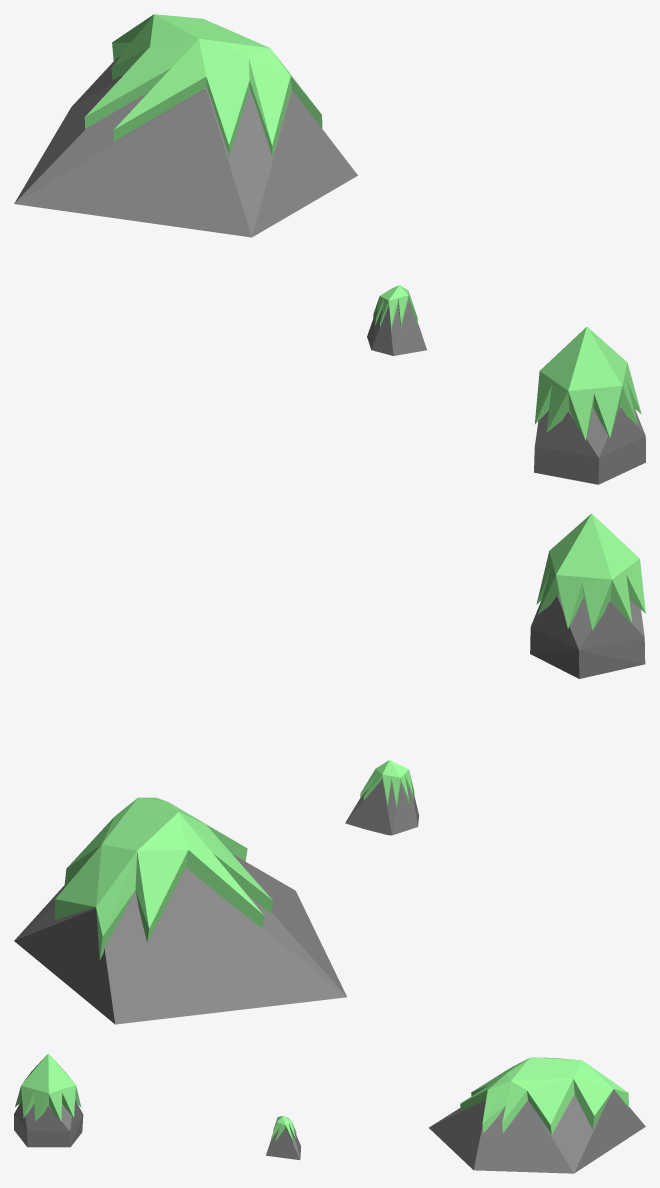
Rendered from BetterLowpolyRocksFIXED-1.fbx.
The picture shows the model from 3 angles, top to bottom: view 1: azimuth 30°, elevation 25°; view 2: azimuth 150°, elevation 25°; view 3: azimuth 270°, elevation 25°; orthographic projection. The views are drawn at different scales.
Parts seen in each view (by area): view 1: Icosphere.001, Icosphere, Icosphere.002; view 2: Icosphere.001, Icosphere, Icosphere.002; view 3: Icosphere.001, Icosphere, Icosphere.002.
Boxes of the visible parts, box(x1,y1,x2,y2) form: Icosphere.001: box(14, 14, 357, 237); Icosphere: box(534, 327, 645, 484); Icosphere.002: box(367, 285, 426, 355); Icosphere.001: box(14, 797, 346, 1024); Icosphere: box(530, 513, 645, 678); Icosphere.002: box(345, 760, 419, 835); Icosphere.001: box(429, 1057, 645, 1173); Icosphere: box(14, 1053, 83, 1147); Icosphere.002: box(266, 1116, 301, 1159).
Size of the model in its own units: 643 by 331 by 1927.
